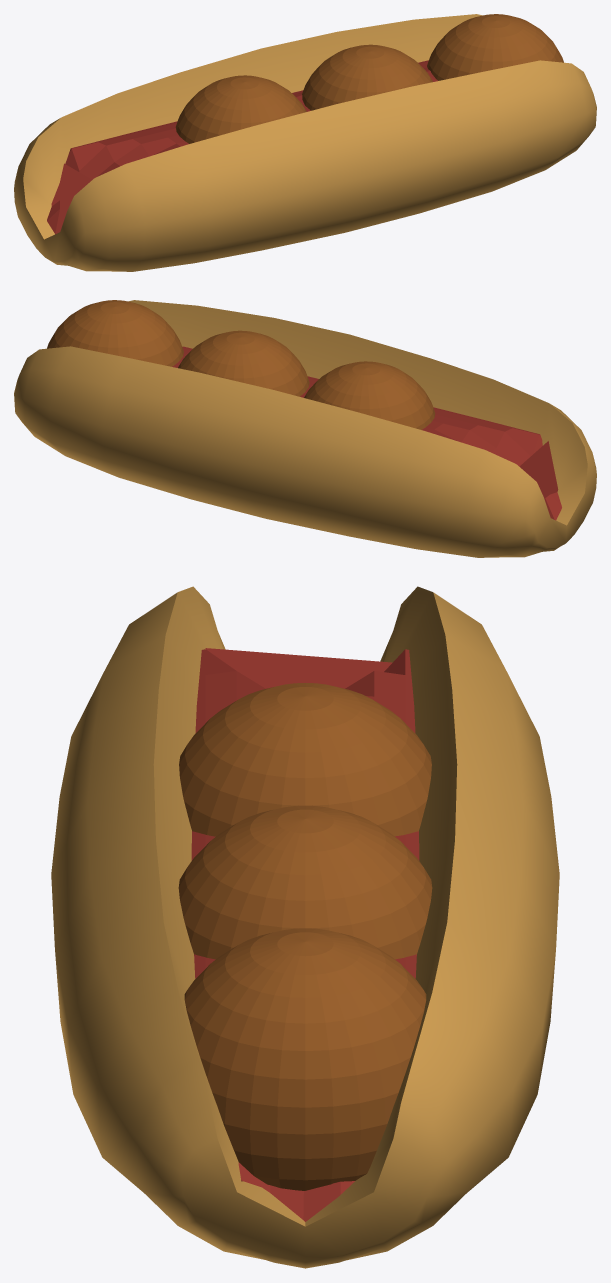
Rendered from 3_4_bun.fbx.
3 views of the same model, one above another, from view 1: azimuth 30°, elevation 25°; view 2: azimuth 150°, elevation 25°; view 3: azimuth 270°, elevation 25° (orthographic). The views are drawn at different scales.
Visible parts, largest first — view 1: Hotdog, Sphere.003, Sphere.001, Sphere, Cylinder; view 2: Hotdog, Sphere.003, Sphere.001, Sphere, Cylinder; view 3: Hotdog, Sphere.003, Sphere.001, Sphere, Cylinder.
Part boxes in pixels (left/top/right/bottom): Hotdog: left=14, top=14, right=596, bottom=271; Sphere.003: left=427, top=14, right=563, bottom=80; Sphere.001: left=175, top=75, right=306, bottom=143; Sphere: left=302, top=44, right=432, bottom=110; Cylinder: left=47, top=60, right=438, bottom=234; Hotdog: left=14, top=300, right=596, bottom=557; Sphere.003: left=47, top=300, right=183, bottom=366; Sphere.001: left=304, top=361, right=435, bottom=429; Sphere: left=178, top=330, right=309, bottom=396; Cylinder: left=172, top=346, right=561, bottom=520; Hotdog: left=51, top=586, right=559, bottom=1268; Sphere.003: left=184, top=928, right=426, bottom=1190; Sphere.001: left=179, top=683, right=431, bottom=836; Sphere: left=178, top=805, right=432, bottom=959; Cylinder: left=191, top=648, right=419, bottom=1221.
Bounding box in the file's own units: 50.47 × 14 × 21.02.
